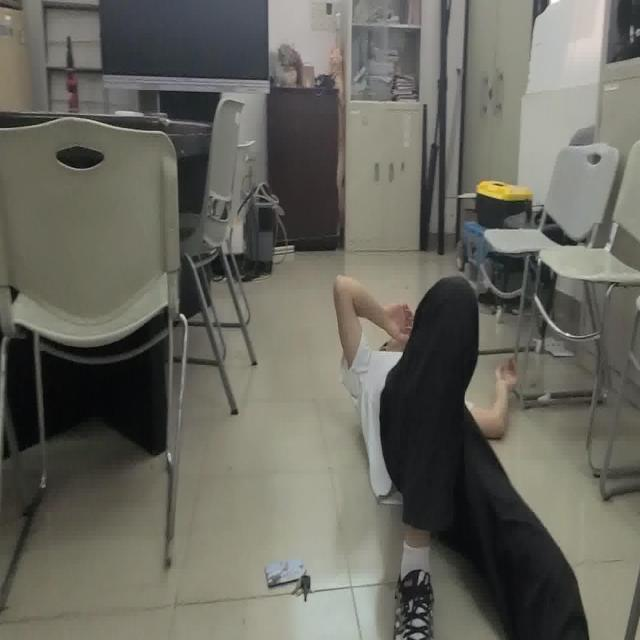fall: (333, 272, 590, 640)
